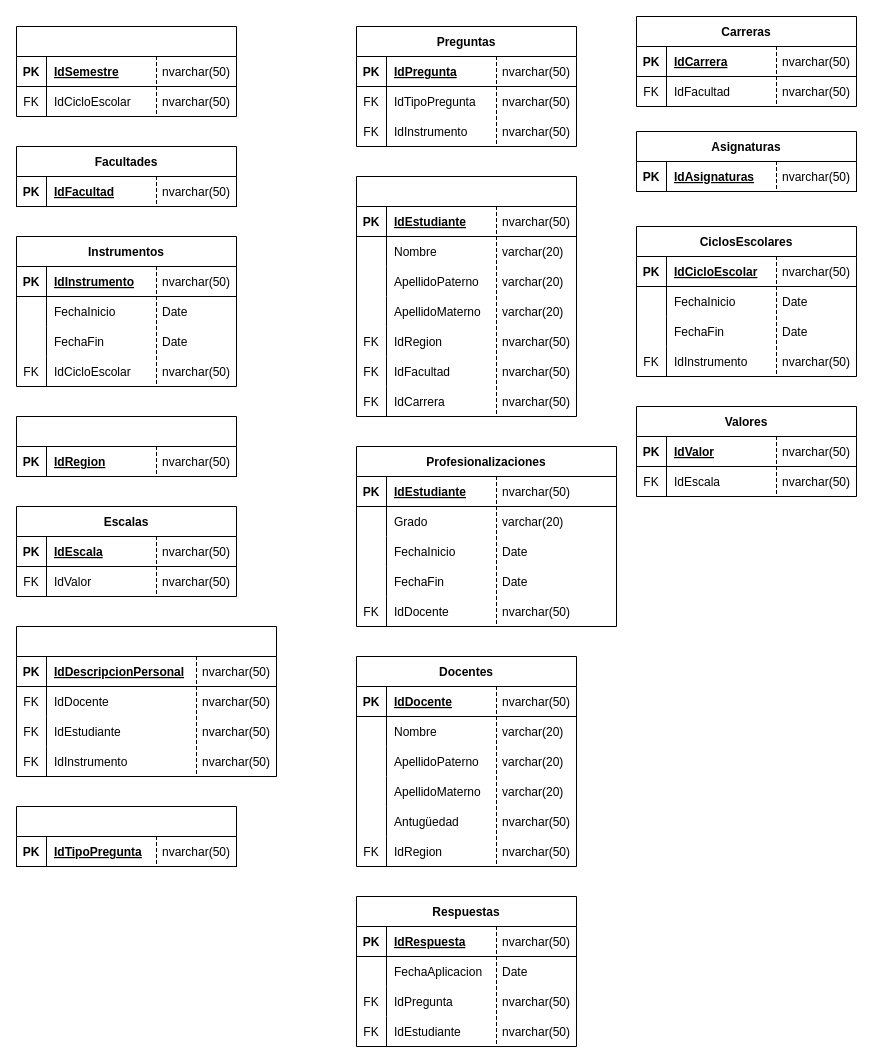
This 873x1063 diagram has some shape labels left out. The box of each missing label's shape, as (x1, y1, x2, y2) in pixels:
DescripcionesPersonales: (16, 626, 276, 776)
Estudiantes: (356, 176, 576, 416)
Regiones: (16, 416, 236, 476)
Semestres: (16, 26, 236, 116)
TiposPreguntas: (16, 806, 236, 866)
